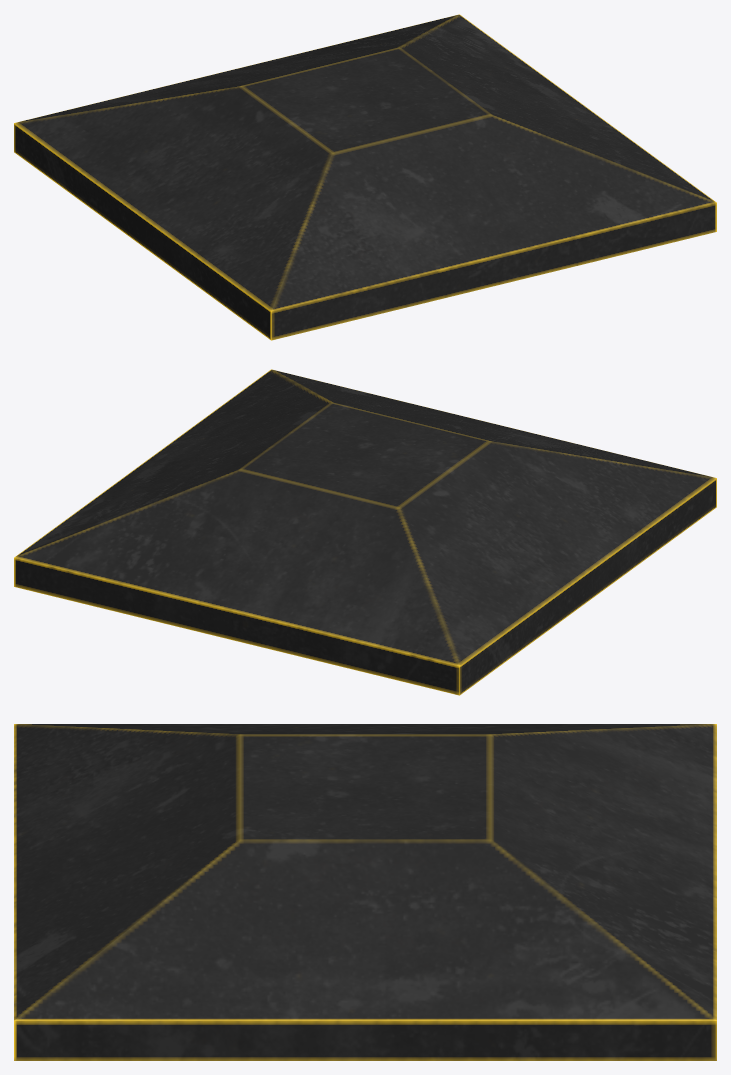
3 views of the same model, one above another, from view 1: azimuth 30°, elevation 25°; view 2: azimuth 150°, elevation 25°; view 3: azimuth 270°, elevation 25° (orthographic). The views are drawn at different scales.
Parts seen in each view (by area): view 1: Roof_Low; view 2: Roof_Low; view 3: Roof_Low.
Boxes of the visible parts, box(x1,y1,x2,y2) form: Roof_Low: box(14, 14, 716, 340); Roof_Low: box(14, 369, 716, 695); Roof_Low: box(14, 724, 716, 1060).
Bounding box in the file's own units: 539 × 106 × 539.
Materials: 1 (1 with a texture image).
